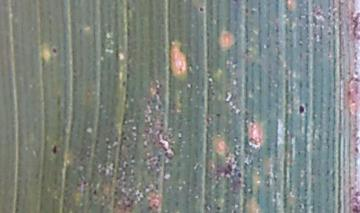tarspot: (49, 143, 60, 156), (296, 102, 306, 116), (47, 46, 61, 55), (213, 109, 223, 120), (213, 203, 224, 212), (89, 187, 99, 196), (197, 4, 205, 15), (352, 144, 359, 154)
